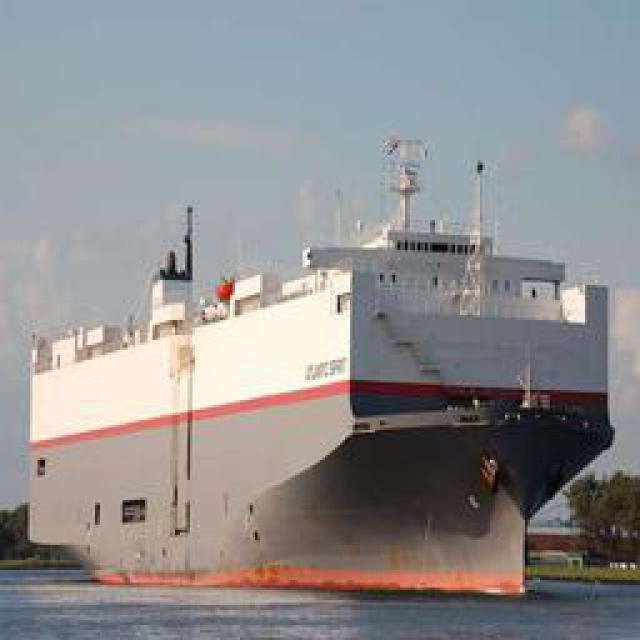Ship: (22, 92, 622, 592)
